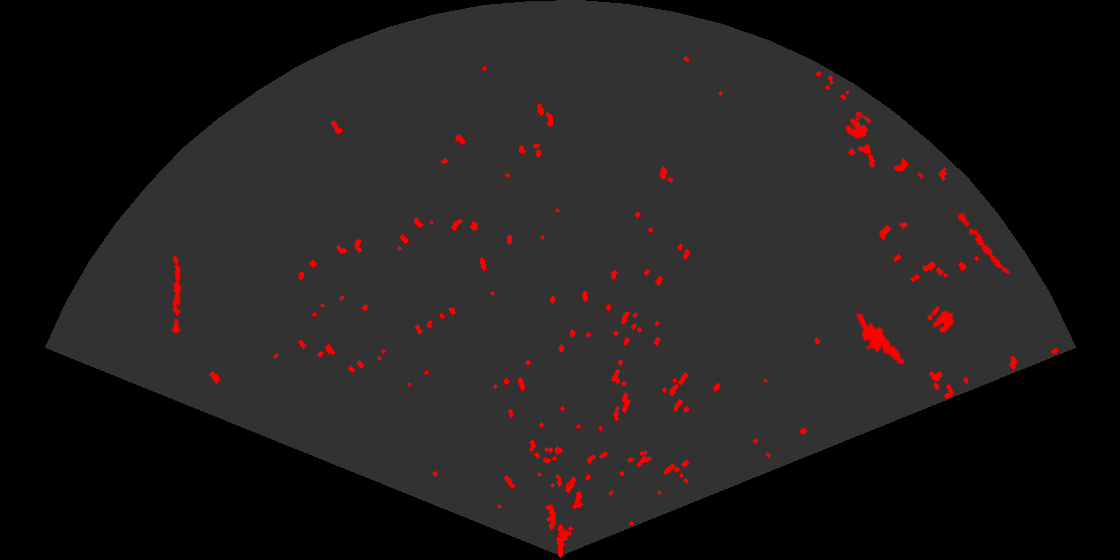ball: (844, 110, 873, 141), (926, 305, 956, 334)
chain: (952, 208, 1012, 276), (170, 253, 183, 334)
frogman: (854, 314, 906, 367)
